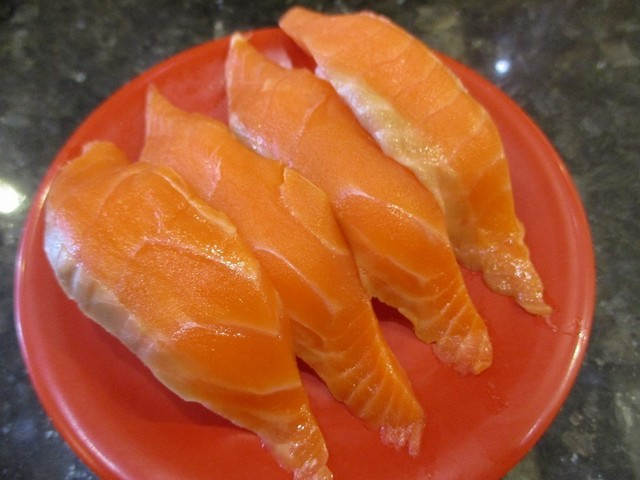salmon: (142, 85, 432, 444), (45, 156, 318, 480), (224, 40, 492, 370), (284, 4, 550, 320)
